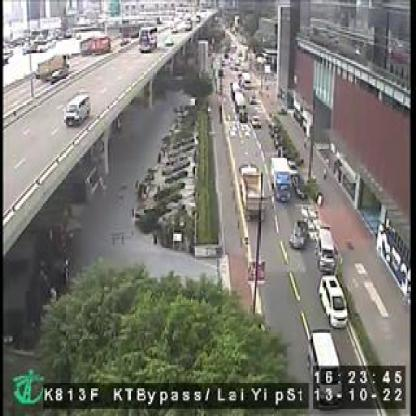Bus: (140, 23, 159, 52)
Car: (308, 328, 344, 405), (318, 272, 348, 328), (63, 92, 91, 127), (318, 227, 337, 277), (289, 219, 310, 250), (251, 115, 262, 129)
Truck: (239, 162, 264, 224), (271, 157, 291, 203)
